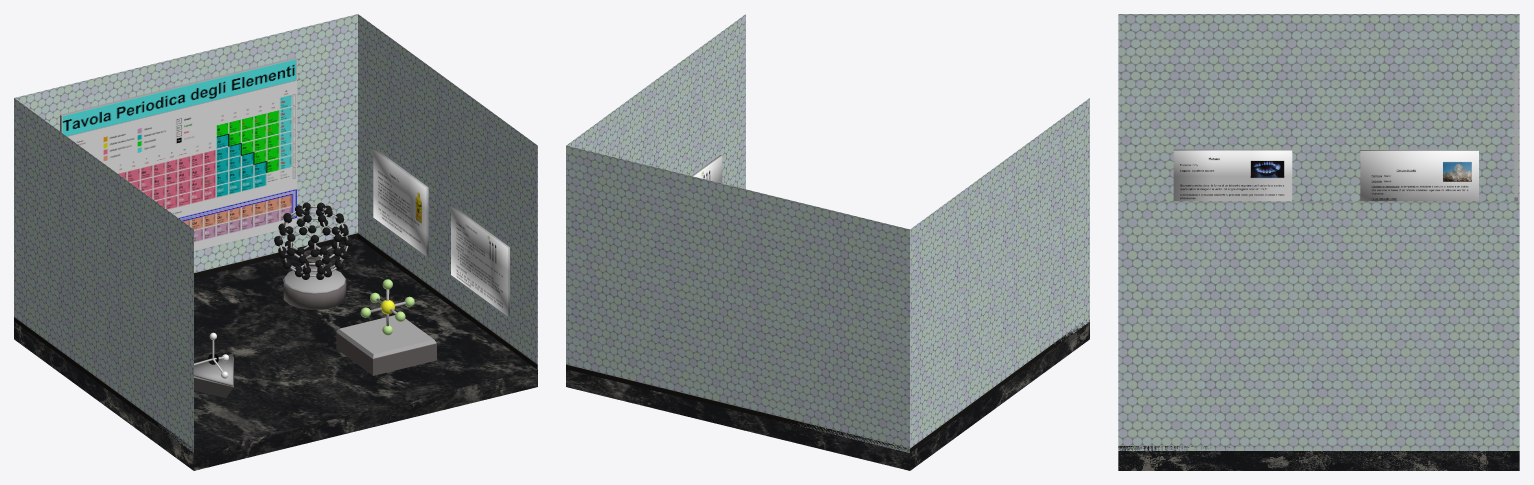
File: geometrie_molecolari.glb
The picture shows the model from 3 angles, left to right: view 1: azimuth 30°, elevation 25°; view 2: azimuth 150°, elevation 25°; view 3: azimuth 270°, elevation 25°; orthographic projection. The views are drawn at different scales.
Visible parts, largest first — view 1: Room, Floor, prim6, prim8, prim10, prim315.001, Baseboard, prim13, prim12, prim314, prim316, prim315 (+2 smaller); view 2: Room, Floor, Baseboard; view 3: Room, Floor, prim11, prim9, prim6.
Boxes of the visible parts, x1=… form: Room: x1=14, y1=14, x2=537, y2=452; Floor: x1=14, y1=238, x2=537, y2=470; prim6: x1=60, y1=57, x2=296, y2=250; prim8: x1=451, y1=205, x2=509, y2=316; prim10: x1=373, y1=148, x2=428, y2=256; prim315.001: x1=274, y1=202, x2=352, y2=279; Baseboard: x1=14, y1=233, x2=537, y2=452; prim13: x1=336, y1=315, x2=436, y2=358; prim12: x1=336, y1=332, x2=436, y2=375; prim314: x1=283, y1=266, x2=346, y2=294; prim316: x1=283, y1=281, x2=346, y2=309; prim315: x1=279, y1=206, x2=348, y2=276; Room: x1=566, y1=14, x2=1089, y2=452; Floor: x1=566, y1=322, x2=1089, y2=470; Baseboard: x1=566, y1=319, x2=1089, y2=452; Room: x1=1118, y1=14, x2=1519, y2=450; Floor: x1=1118, y1=451, x2=1519, y2=470; prim11: x1=1173, y1=149, x2=1292, y2=201; prim9: x1=1360, y1=150, x2=1478, y2=201; prim6: x1=1514, y1=69, x2=1517, y2=201.
Bounding box in the file's own units: 9.42 × 6.62 × 8.52.
Materials: 31 (7 with a texture image).
